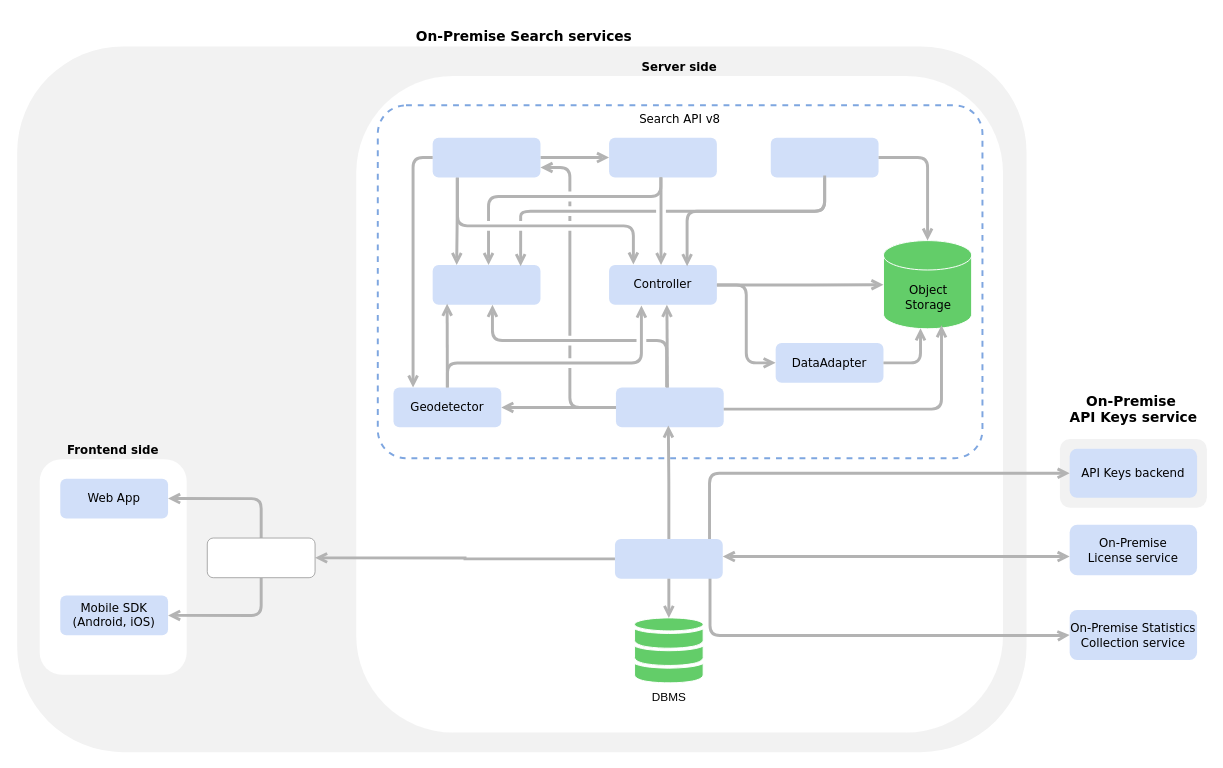
Image size: 1223x768. Some labels were removed from this diagram. The shapes that lost their labels are listed below. From the top down, each one's centre as x and y in pixels, then its label:
the point at 486,157: Head
the point at 662,157: Worker
the point at 824,157: Indexer
the point at 486,284: FilesStorage
the point at 669,407: IngressRouter
the point at 260,557: REST API
the point at 668,558: Catalog APIs
